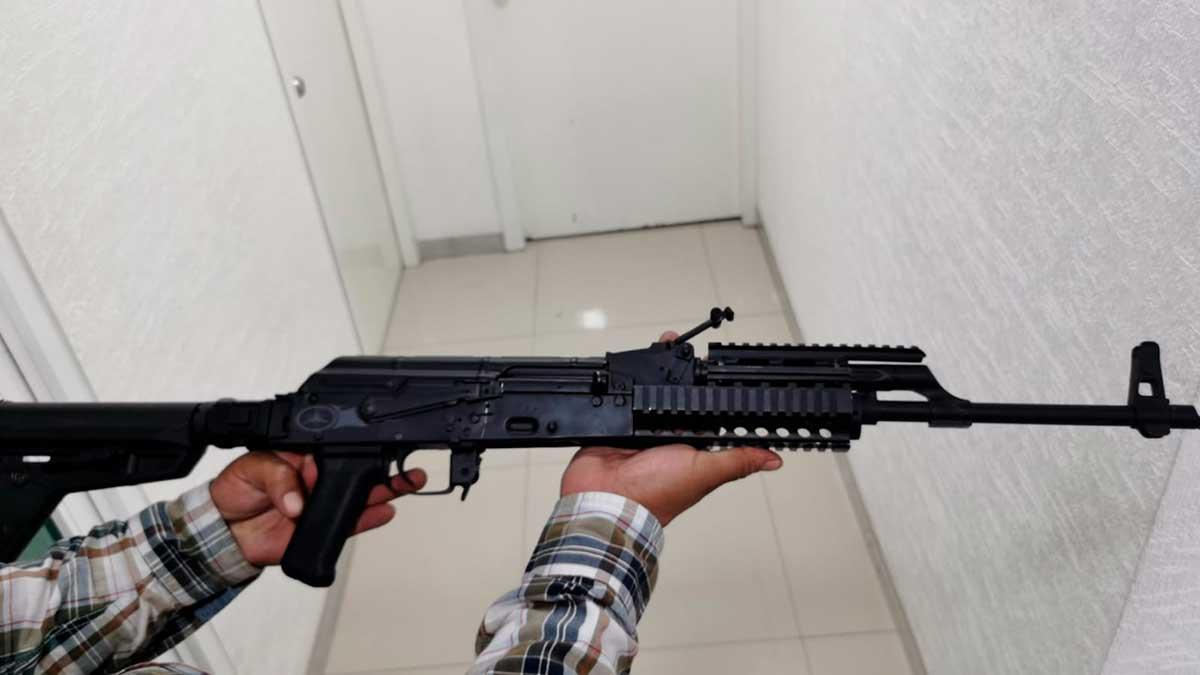larga: (1, 303, 1200, 591)
